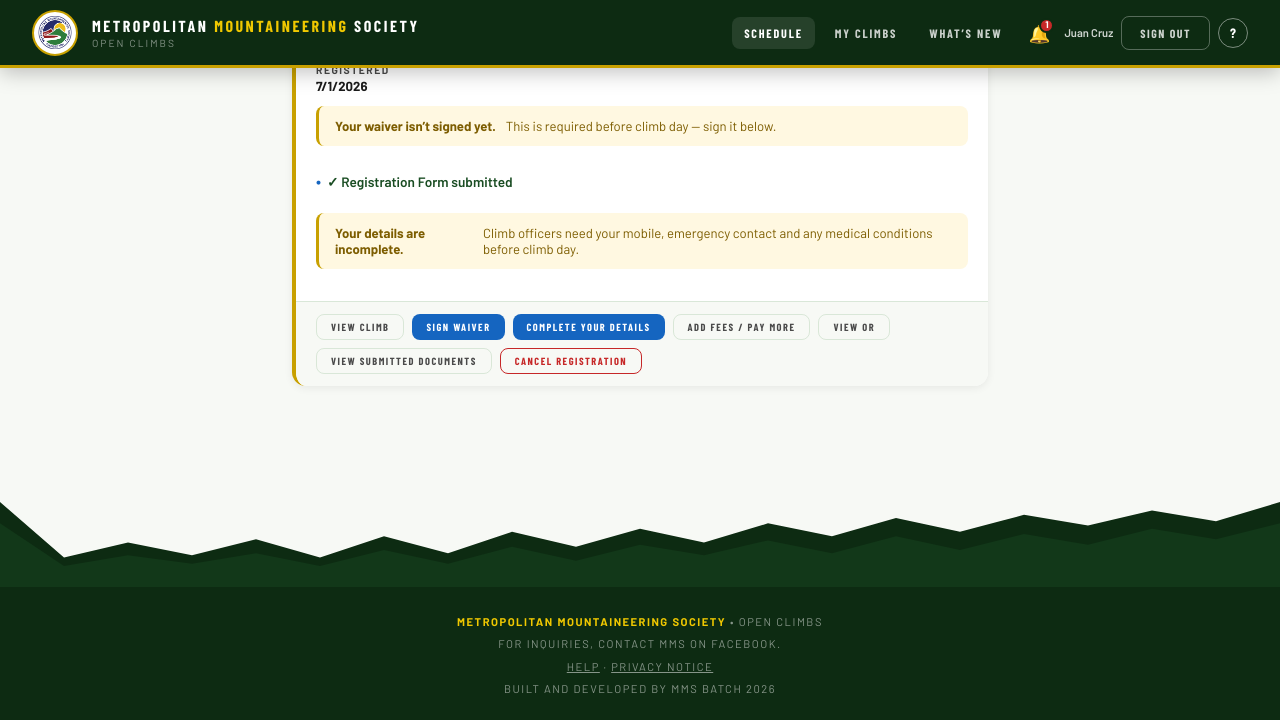
MyRegistrations page › lets a member reveal an upload field to replace an already-submitted document, and cancel out of it
(page scrolled)
Click the button "View Submitted Documents" at (404, 361), box [316,348,492,374]
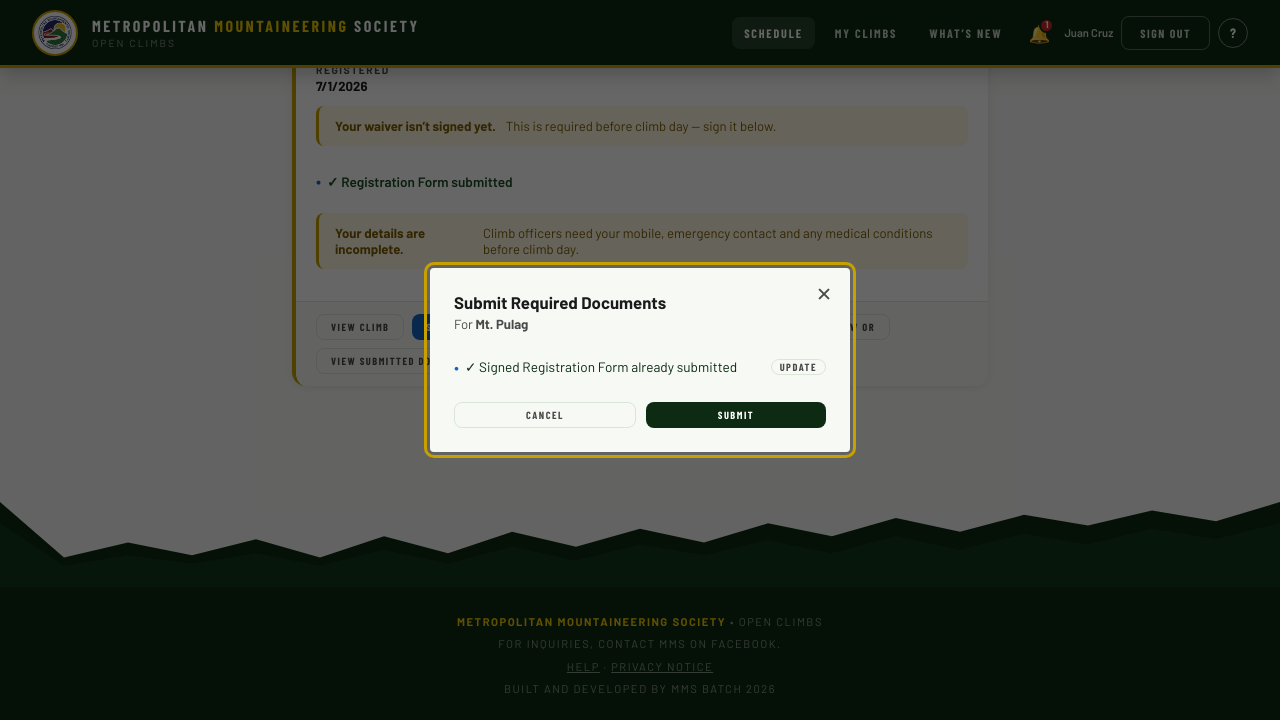
Check: the text "✓ Signed Registration Form already submitted" is shown, box [465,358,737,376]
Click the button "Update" at (798, 367), box [771,359,826,375]
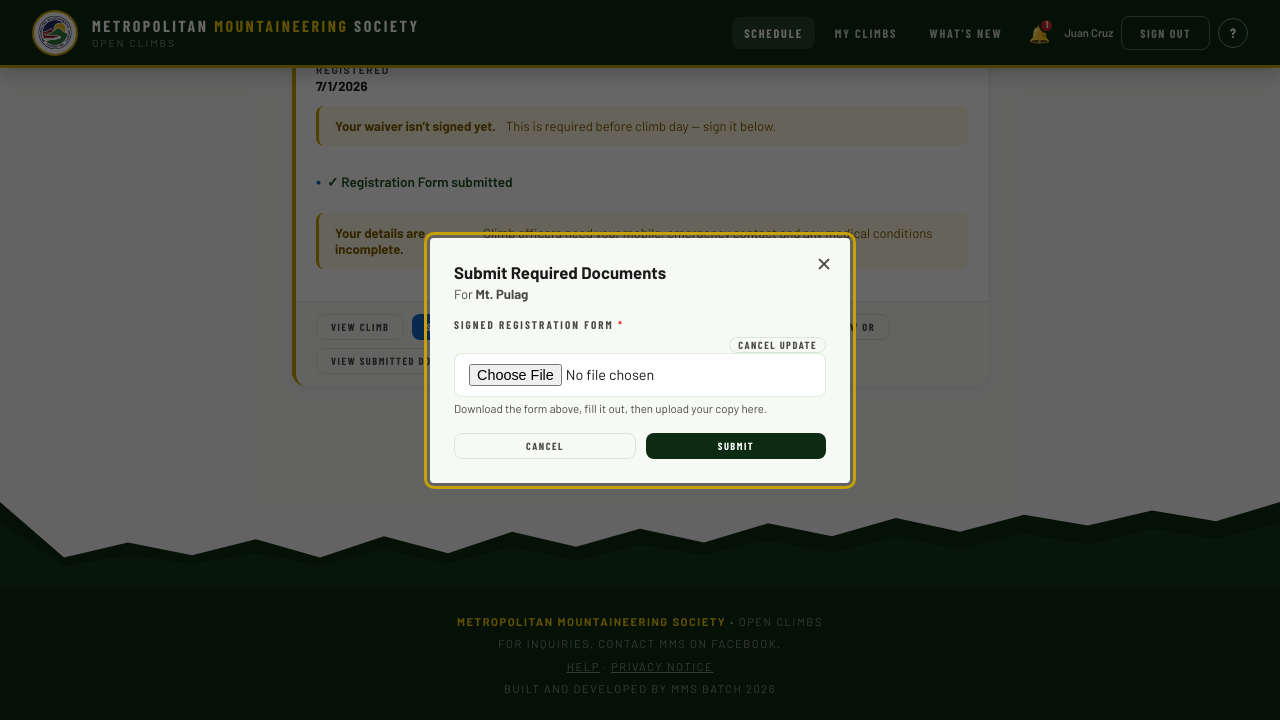
Check: the text "Signed Registration Form" is shown, box [454,318,614,330]
Check: the text "already submitted" is gone
Click the button "Cancel Update" at (778, 344), box [729,336,826,352]
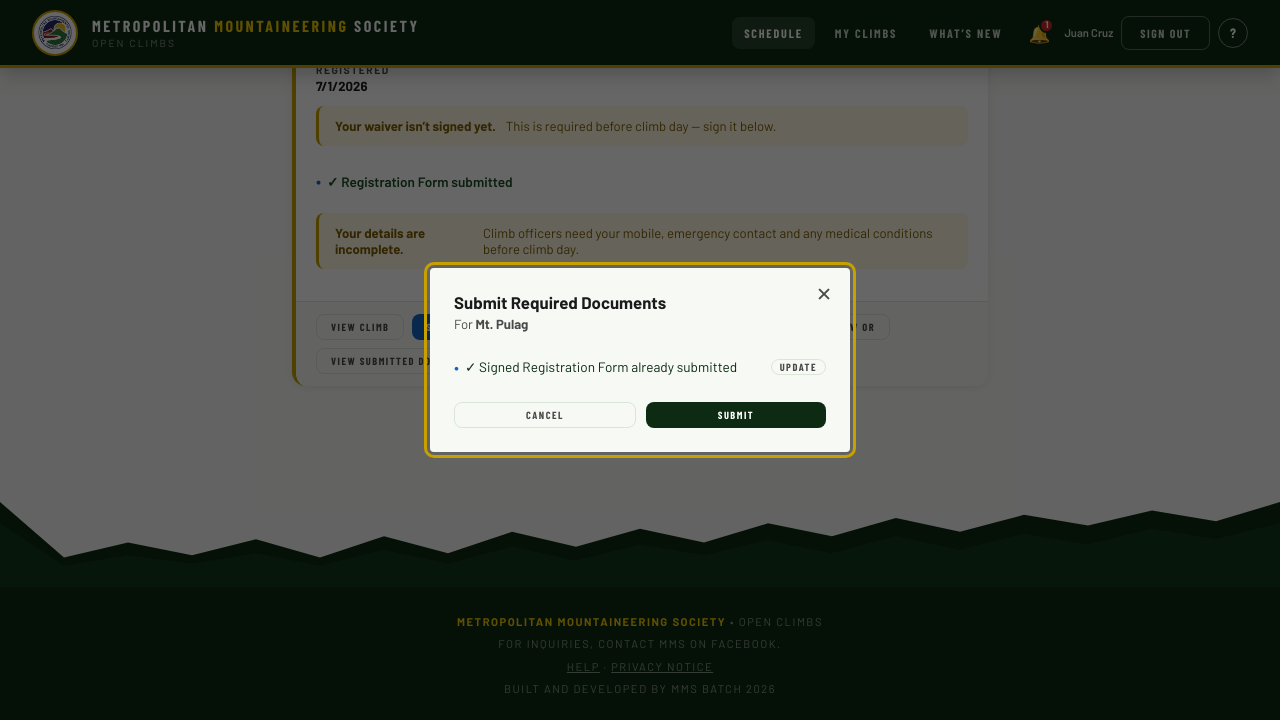
Check: the text "✓ Signed Registration Form already submitted" is shown, box [465,358,737,376]
